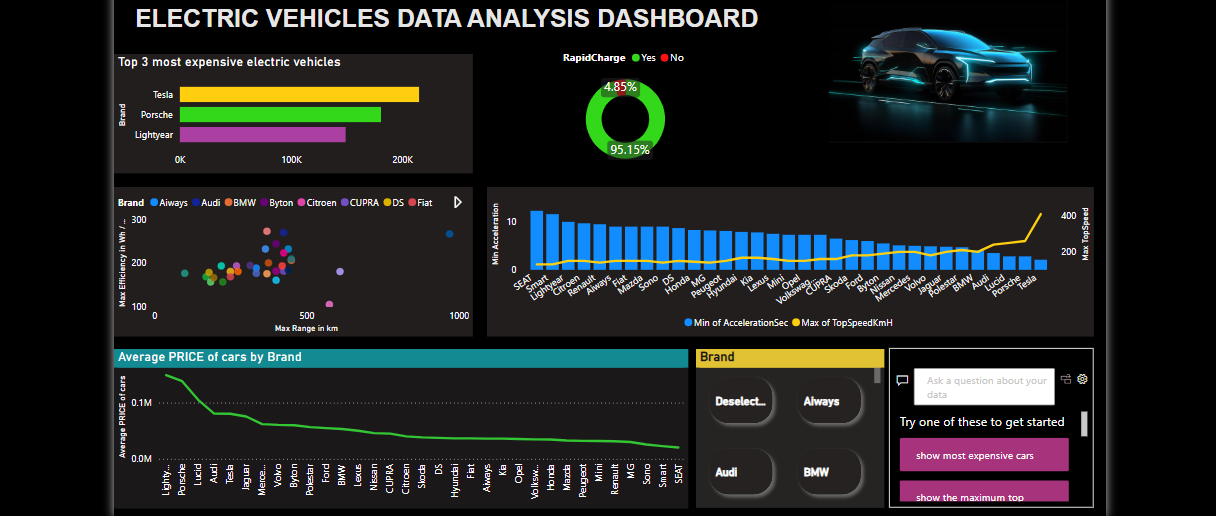

This screenshot's page, from the dashboard's own definition file:
{"tool":"powerbi","page":{"name":"EV data analysis","canvas":[1280,720],"ordinal":0},"visuals":[{"type":"actionButton","box":[0,0,100,40],"z":0},{"type":"donutChart","fields":{"Category":["electriccar carspecifications.RapidCharge"],"Y":["CountNonNull(electriccar carspecifications.RapidCharge)"]},"box":[481.4,105.7,357.1,170],"z":1000},{"type":"barChart","title":"Top 3 most expensive electric vehicles","fields":{"Category":["Most expensive car.Brand"],"Y":["Max(Most expensive car.PRICE)"]},"box":[0,121.4,462.9,154.3],"z":2000},{"type":"lineStackedColumnComboChart","fields":{"Y":["Min(electriccar carspecifications.AccelerationSec)"],"Category":["electriccar cardata.Brand"],"Y2":["Max(electriccar carspecifications.TopSpeedKmH)"]},"box":[481.4,292.9,782.9,192.9],"z":3000},{"type":"advancedSlicerVisual","title":"Brand","fields":{"Values":["electriccar cardata.Brand"]},"box":[751.4,501.4,243.2,205.4],"z":4000},{"type":"image","box":[872.6,20.6,407.4,220.2],"z":5000},{"type":"textbox","box":[22.2,52.8,826.4,52.8],"z":6000},{"type":"scatterChart","fields":{"X":["Max(electriccar carspecifications.Rangekm)"],"Y":["Max(electriccar carspecifications.EfficiencyWhKm)"],"Series":["electriccar cardata.Brand"]},"box":[0,292.9,462.9,192.9],"z":7000},{"type":"lineChart","fields":{"Category":["Avg price of car by brand.Brand"],"Y":["Avg(Avg price of car by brand.AVG_PRICE)"]},"box":[0,501.4,741.4,205.7],"z":8000},{"type":"qnaVisual","box":[1000.6,501,264.3,206.5],"z":9000}]}

Visuals, with their boxes on the page's 1280x720 design canvas (x1, y1, x2, y2). These are canvas units, not pixel positions in the 1216x516 screenshot, which may show the page scaled, cropped or inside an application window:
actionButton: detection(0, 0, 100, 40)
donutChart - electriccar carspecifications.RapidCharge x CountNonNull(electriccar carspecifications.RapidCharge): detection(481, 106, 838, 276)
"Top 3 most expensive electric vehicles" barChart: detection(0, 121, 463, 276)
lineStackedColumnComboChart - Min(electriccar carspecifications.AccelerationSec) x electriccar cardata.Brand: detection(481, 293, 1264, 486)
"Brand" advancedSlicerVisual: detection(751, 501, 995, 707)
image: detection(873, 21, 1280, 241)
textbox: detection(22, 53, 849, 106)
scatterChart - Max(electriccar carspecifications.Rangekm) x Max(electriccar carspecifications.EfficiencyWhKm): detection(0, 293, 463, 486)
lineChart - Avg price of car by brand.Brand x Avg(Avg price of car by brand.AVG_PRICE): detection(0, 501, 741, 707)
qnaVisual: detection(1001, 501, 1265, 708)
